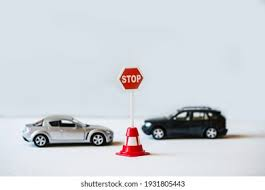stop sign: (117, 67, 143, 91)
